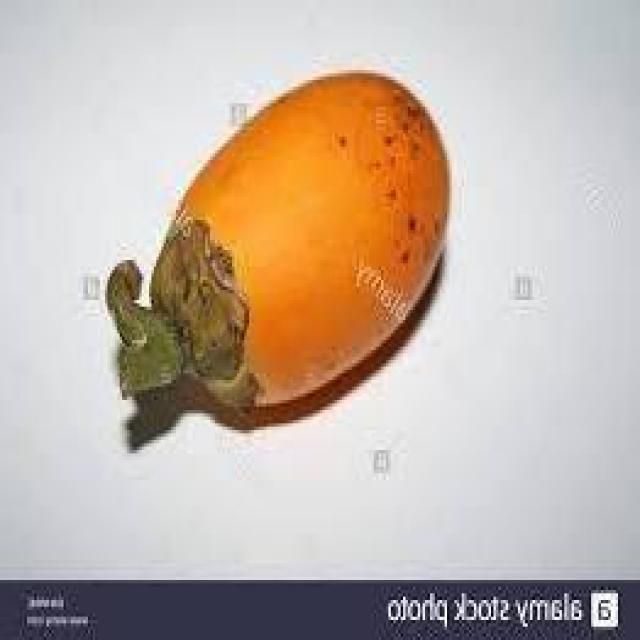good: (105, 70, 454, 450)
